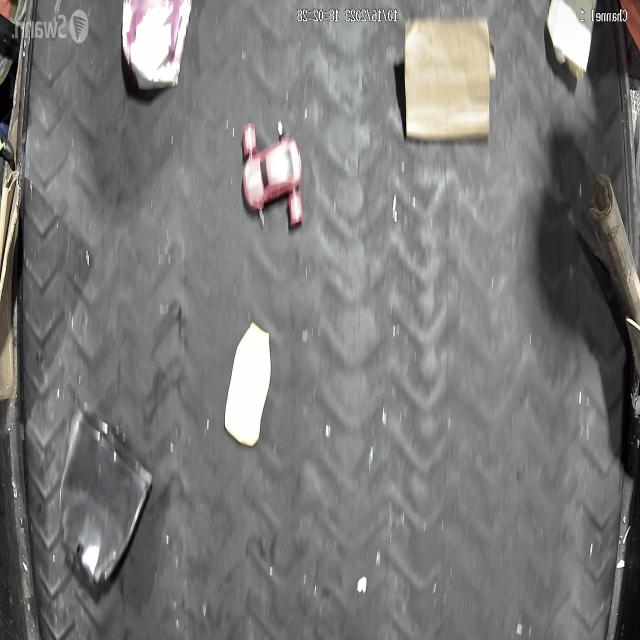non_white_jug: (122, 0, 193, 92)
